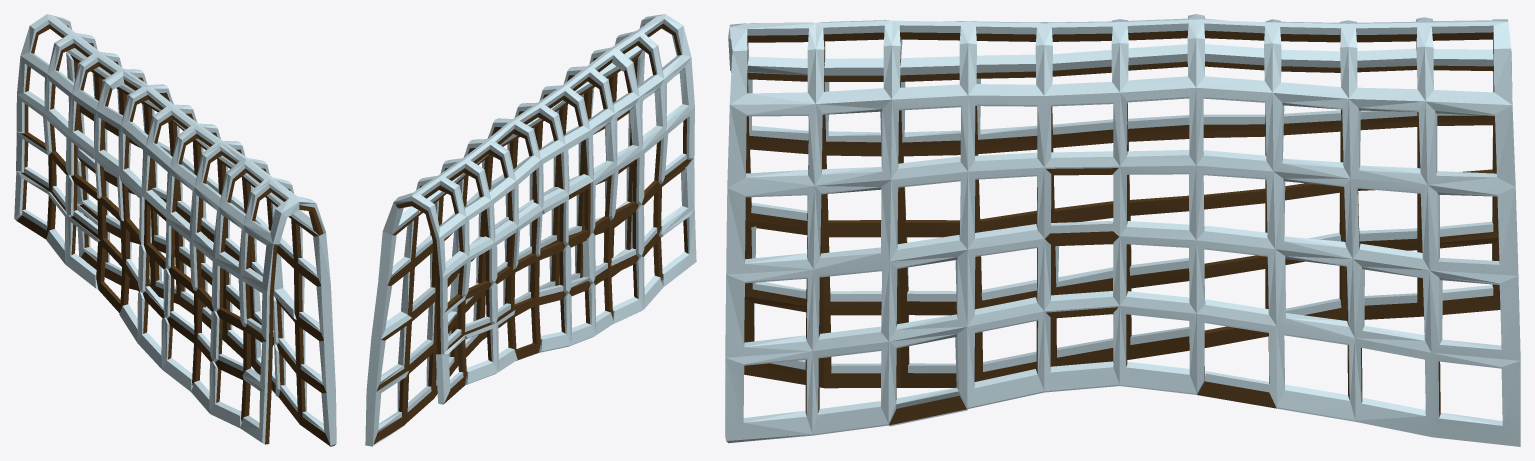
Rendered from Red_Pesca01.glb.
3 renders of one model, left to right at view 1: azimuth 30°, elevation 25°; view 2: azimuth 150°, elevation 25°; view 3: azimuth 270°, elevation 25°, orthographic. The views are drawn at different scales.
Parts seen in each view (by area): view 1: SM_Prop_Net_01_Snow; view 2: SM_Prop_Net_01_Snow; view 3: SM_Prop_Net_01_Snow.
Boxes of the visible parts, bbox=[...] form: SM_Prop_Net_01_Snow: bbox=[14, 14, 336, 446]; SM_Prop_Net_01_Snow: bbox=[365, 14, 696, 446]; SM_Prop_Net_01_Snow: bbox=[725, 14, 1520, 446].
Size of the model in its own units: 0.3684 by 1.19 by 2.16.
Materials: 1 (1 with a texture image).
